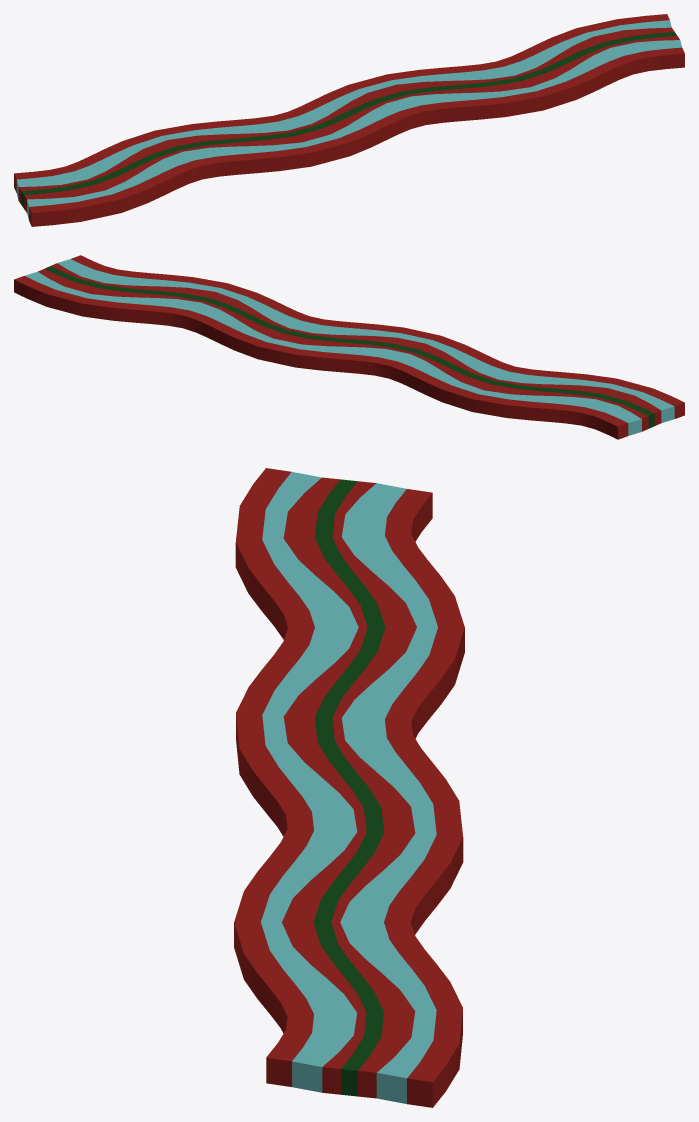
Rendered from SM_RibbonCandy.fbx.
3 views of the same model, one above another, from view 1: azimuth 30°, elevation 25°; view 2: azimuth 150°, elevation 25°; view 3: azimuth 270°, elevation 25° (orthographic). The views are drawn at different scales.
Parts seen in each view (by area): view 1: SM_Ribbon_Bridge; view 2: SM_Ribbon_Bridge; view 3: SM_Ribbon_Bridge.
Boxes of the visible parts, x1,y1,x2,y2 form: SM_Ribbon_Bridge: (14,14,684,226); SM_Ribbon_Bridge: (14,255,684,439); SM_Ribbon_Bridge: (234,468,464,1107).
Bounding box in the file's own units: 184 × 3.6 × 29.24.
